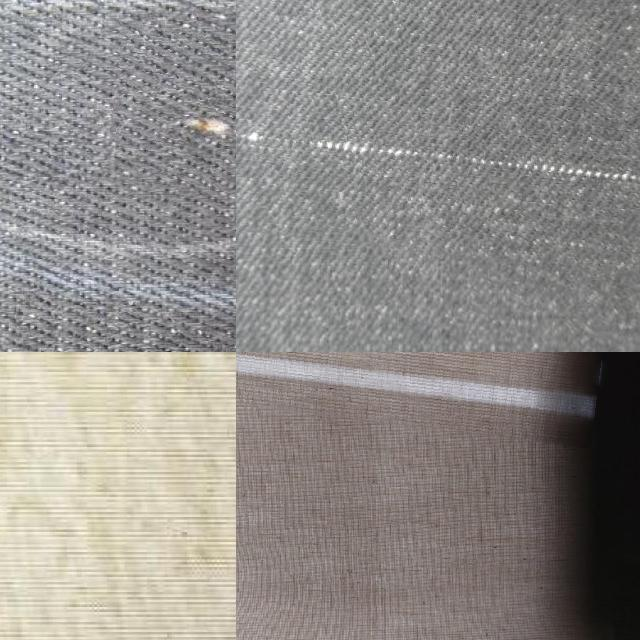stains: (236, 0, 640, 275), (236, 352, 600, 431), (109, 30, 236, 206)
